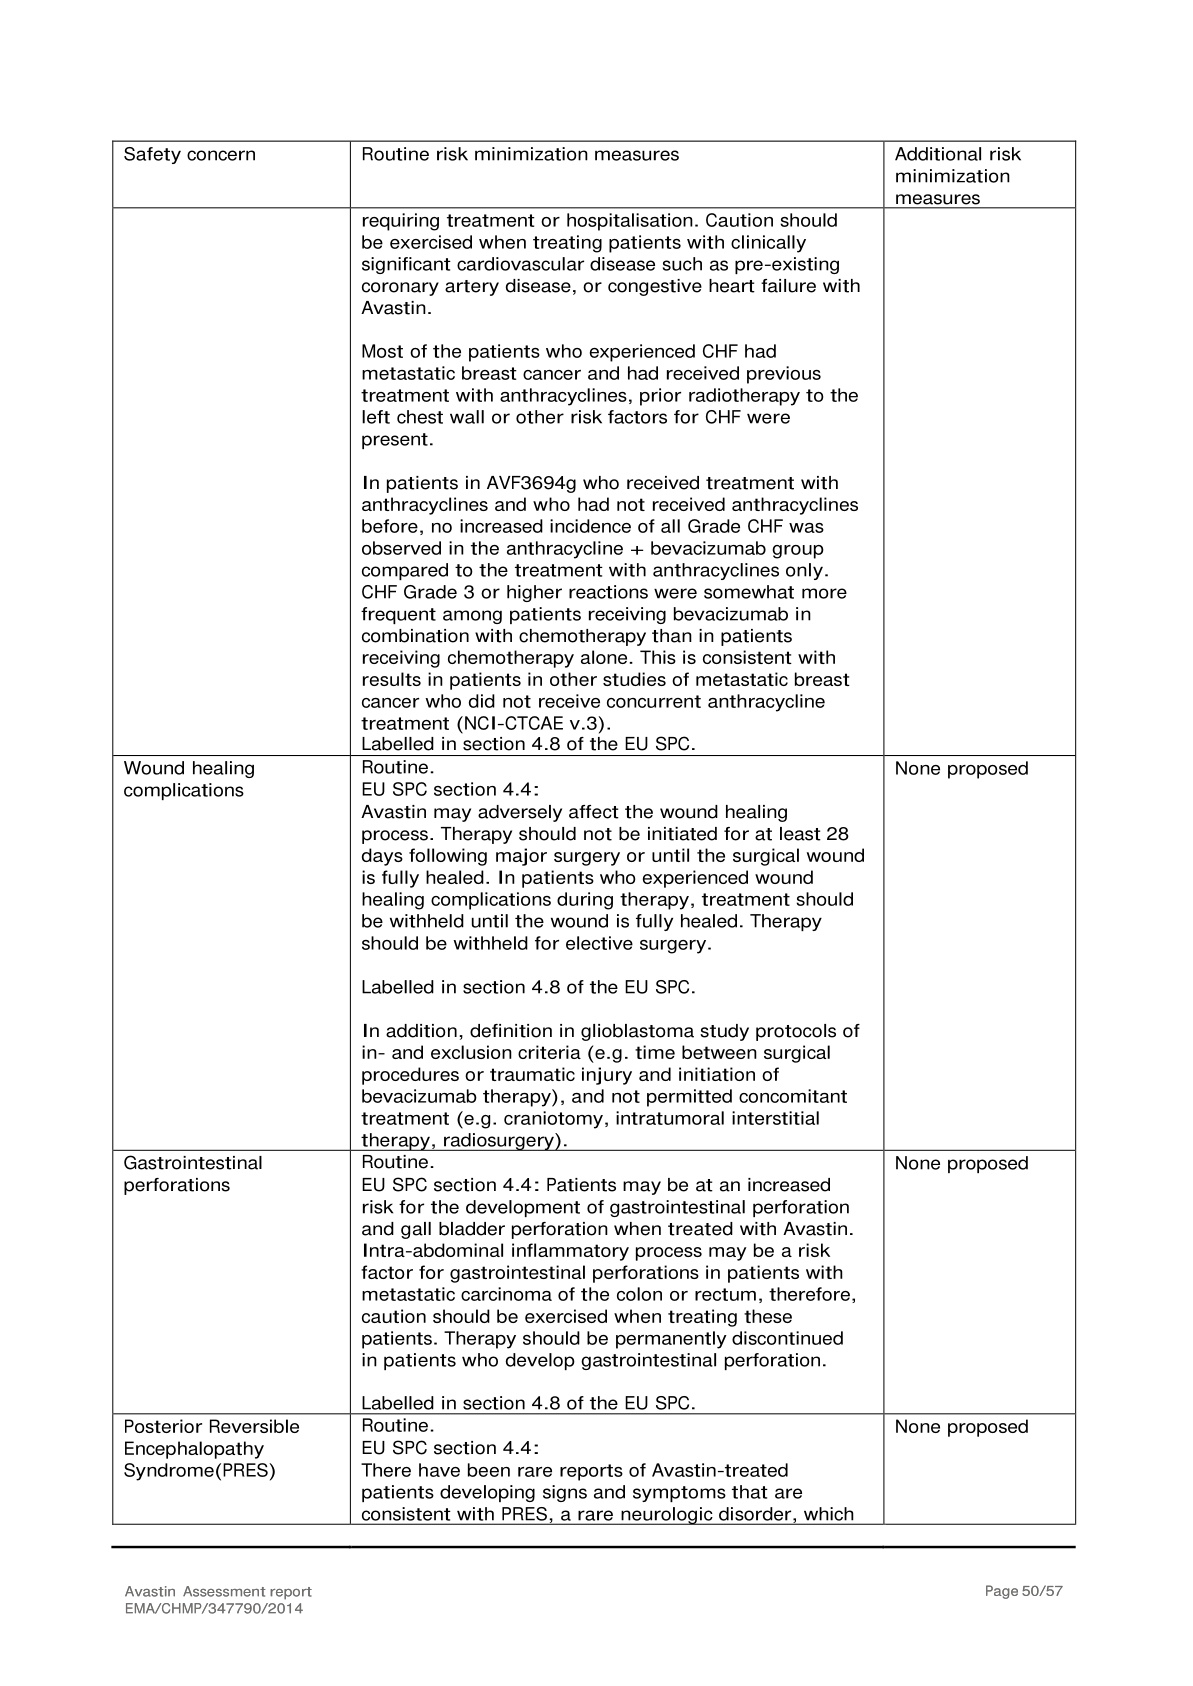full_lined: (112, 139, 1077, 1525)
